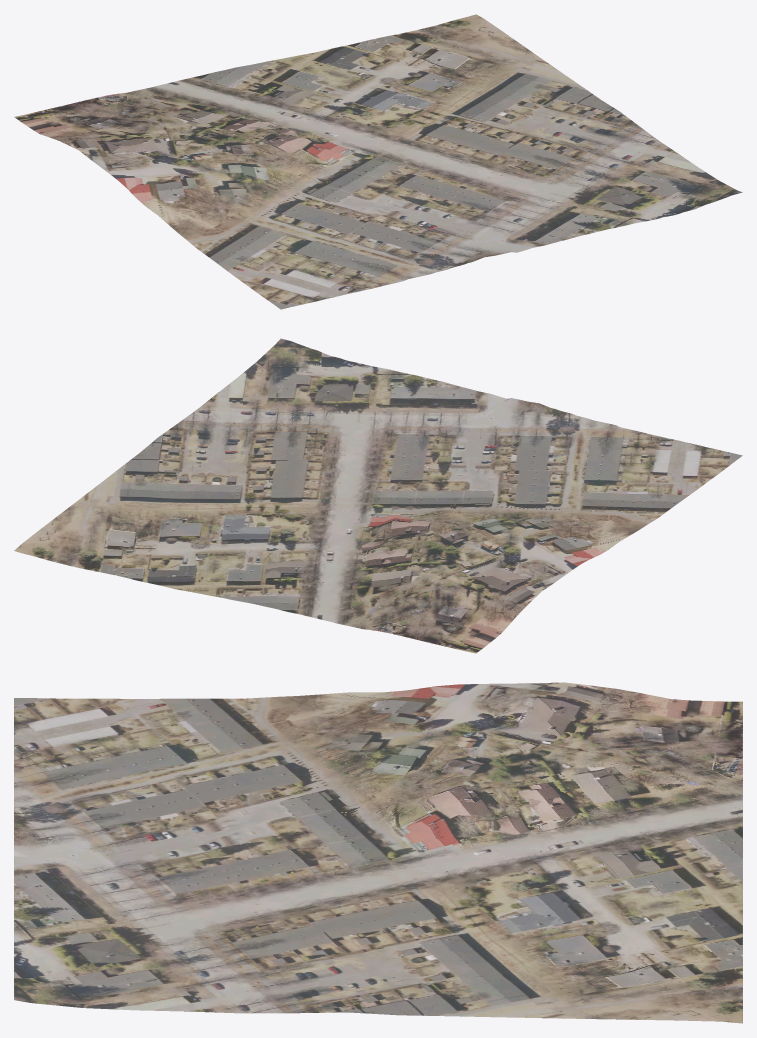
File: CM_Terrain_24491687_6817336.fbx
3 views of the same model, one above another, from view 1: azimuth 30°, elevation 25°; view 2: azimuth 150°, elevation 25°; view 3: azimuth 270°, elevation 25° (orthographic). The views are drawn at different scales.
Visible parts, largest first — view 1: CM_Terrain_24491687_6817336_LOD0; view 2: CM_Terrain_24491687_6817336_LOD0; view 3: CM_Terrain_24491687_6817336_LOD0.
Boxes of the visible parts, left/top/right/bottom form: CM_Terrain_24491687_6817336_LOD0: left=14, top=14, right=742, bottom=309; CM_Terrain_24491687_6817336_LOD0: left=14, top=338, right=742, bottom=653; CM_Terrain_24491687_6817336_LOD0: left=14, top=682, right=742, bottom=1023.
Size of what is drawn, in the model's own units: 205 by 10.99 by 205.
